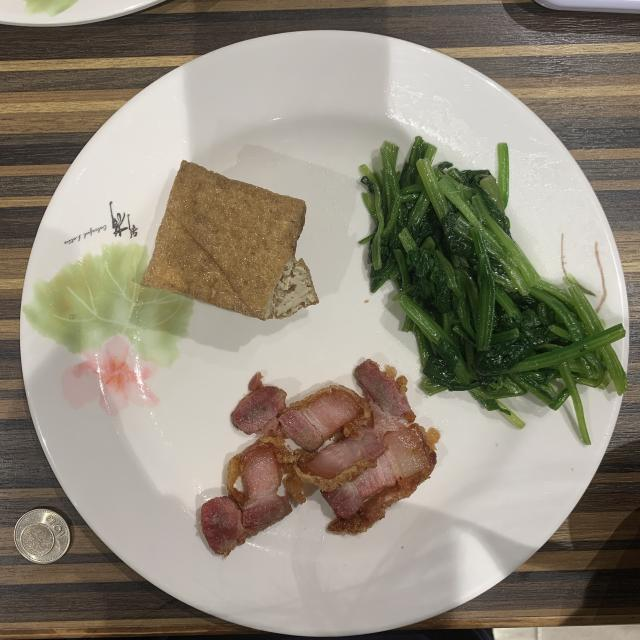coin: (14, 509, 70, 564)
egg tofu: (142, 160, 319, 320)
mustard greens: (360, 138, 628, 444)
red grilled pork: (201, 360, 439, 555)
